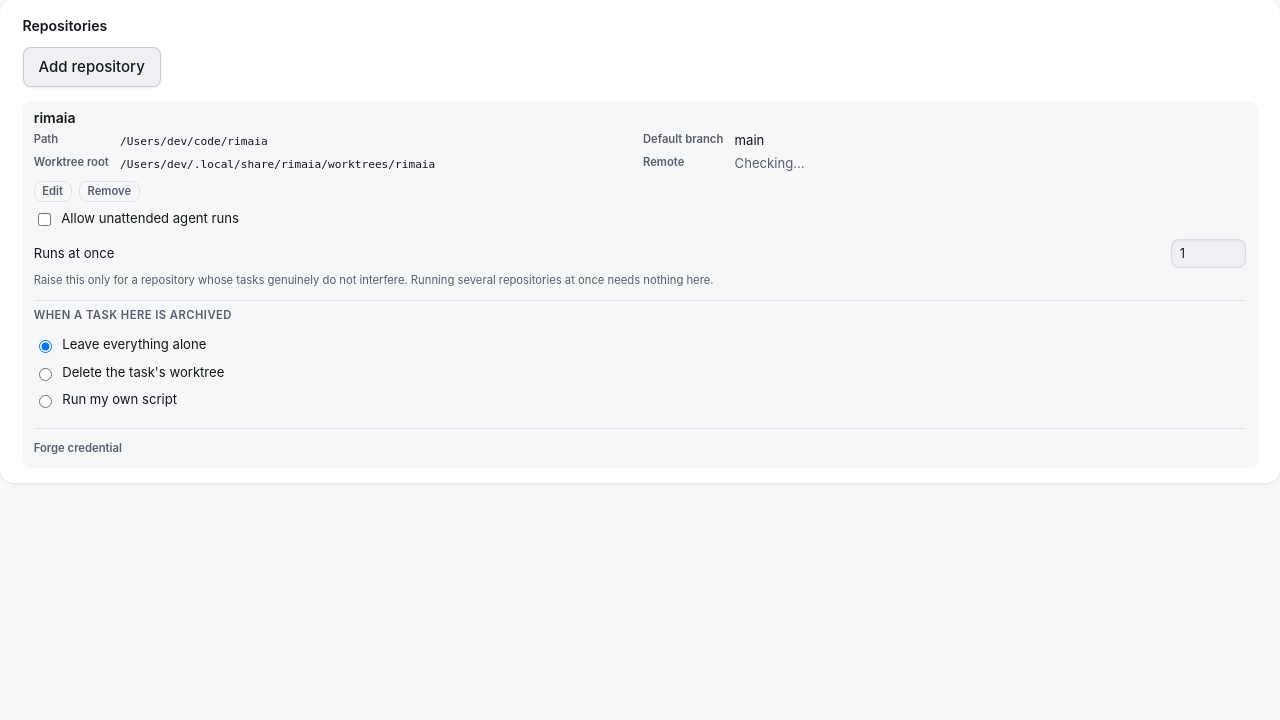
Test: RepositoriesSection › repaints the cap from what the backend kept when the write is refused
Replace the text in the number field labelled "Runs at once" with "40": (1209, 253) x1=1171 y1=239 x2=1246 y2=268
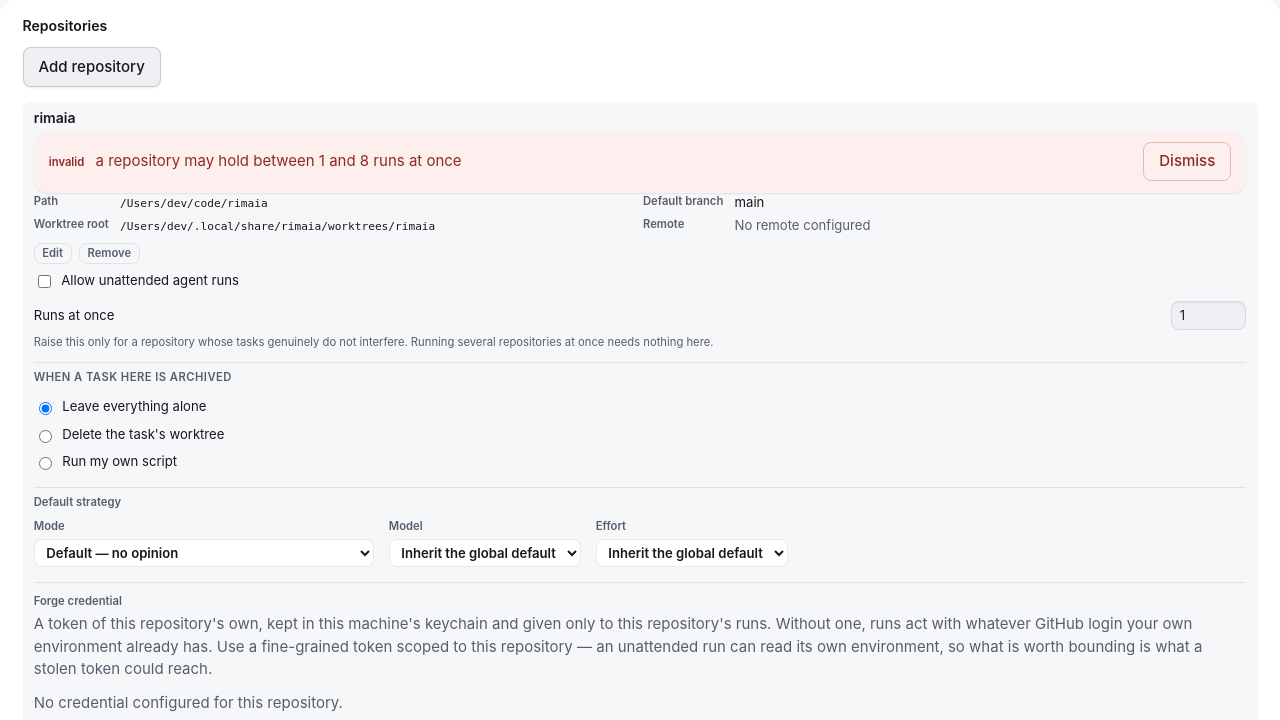
Check: the number field labelled "Runs at once" holds "1", box x1=1171 y1=301 x2=1246 y2=330
Check: the message shows "between 1 and 8 runs at once", box x1=96 y1=151 x2=462 y2=170
